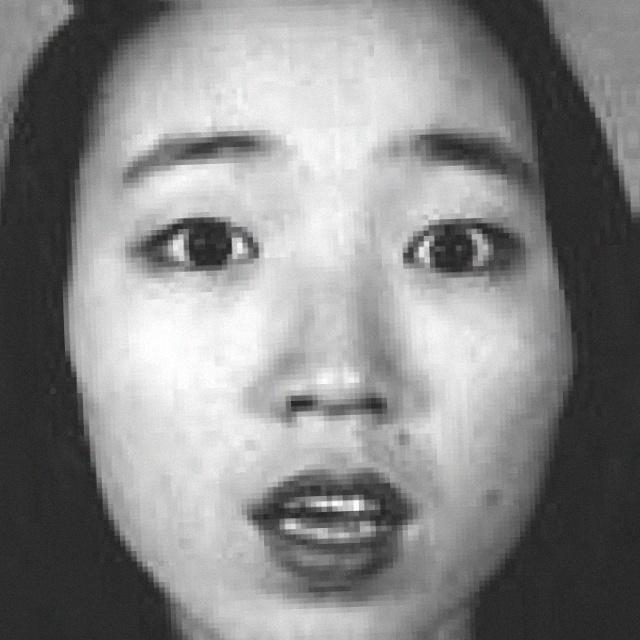surprise: (90, 16, 572, 631)
